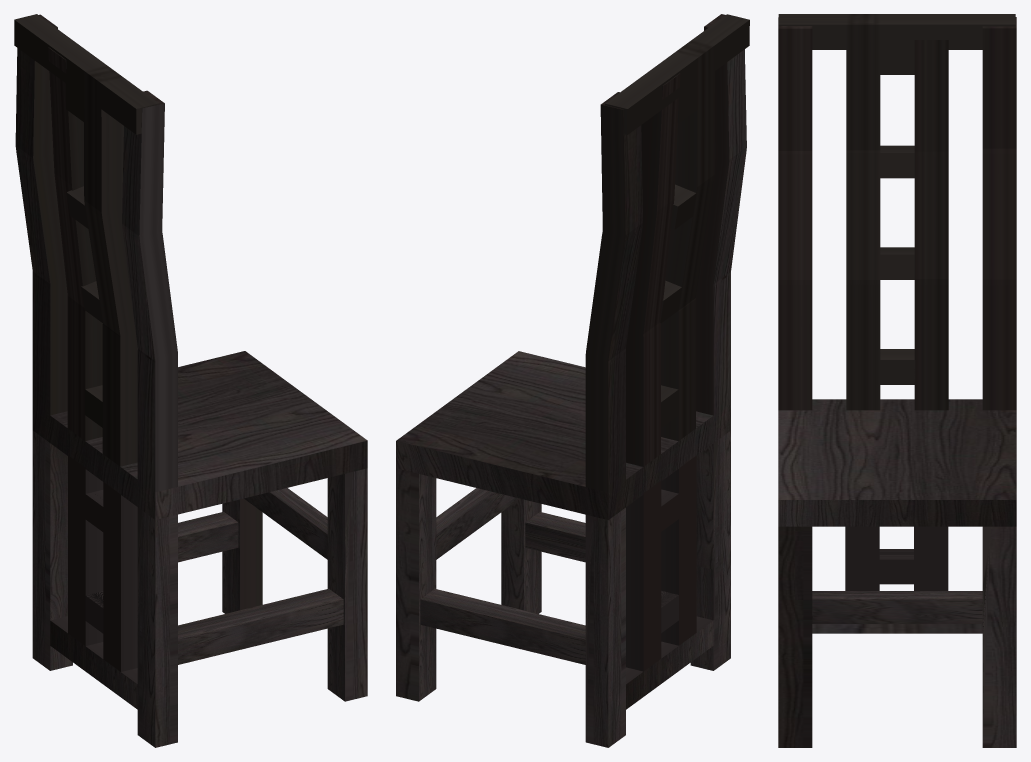
The model's file is silla.fbx.
3 views of the same model, side by side, from view 1: azimuth 30°, elevation 25°; view 2: azimuth 150°, elevation 25°; view 3: azimuth 270°, elevation 25° (orthographic). The views are drawn at different scales.
Visible parts, largest first — view 1: Cube; view 2: Cube; view 3: Cube.
Part boxes in pixels (x1,y1,x2,y2): Cube: (14,14,367,747); Cube: (396,14,749,747); Cube: (778,14,1016,747).
Bounding box in the file's own units: 378 × 1002 × 346.
Materials: 1 (1 with a texture image).
